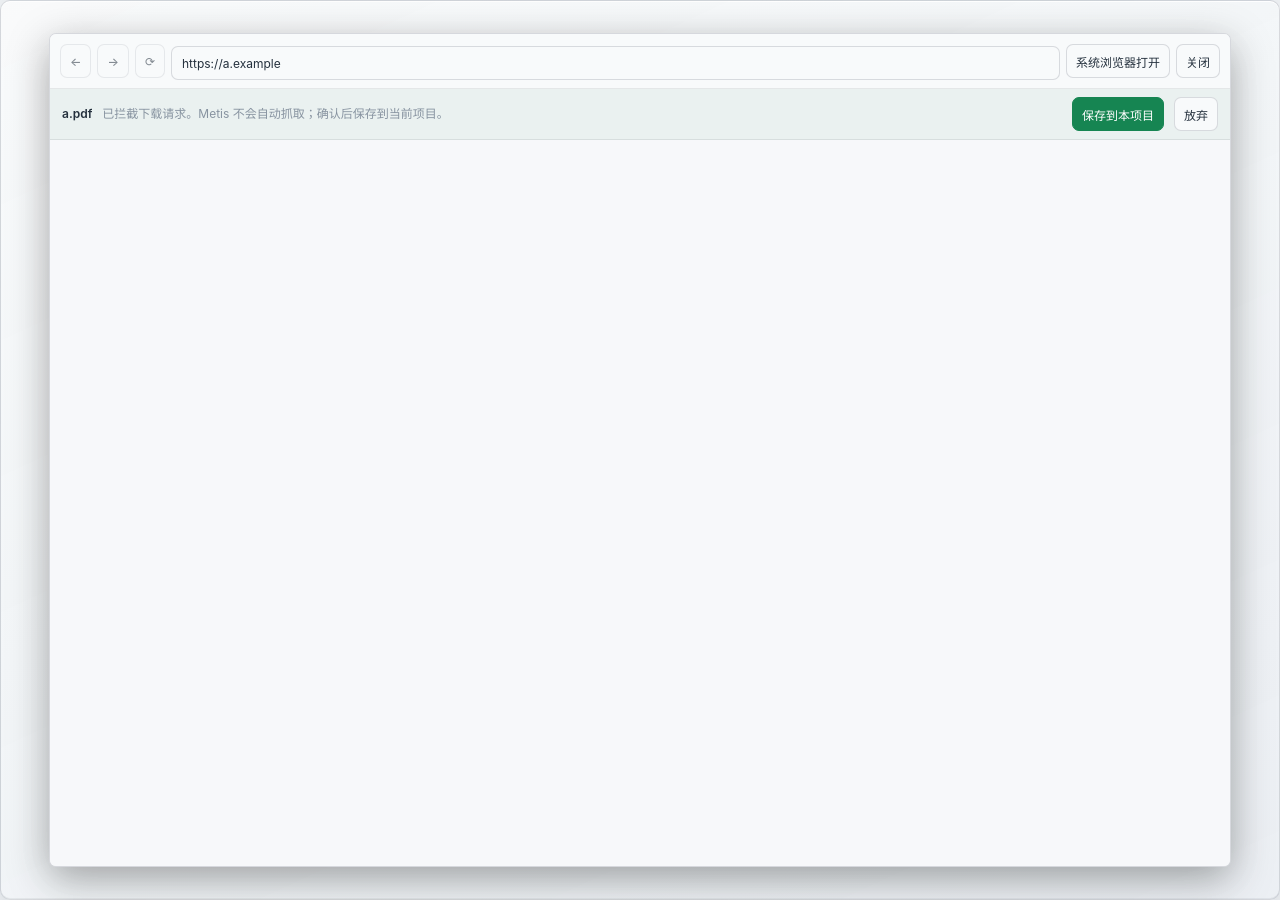
it: EmbeddedBrowserOverlay › 下载请求弹出确认条：保存到项目后消失并提示
The image size is (1280, 900).
expect the element with test id "browser-overlay-download" is shown: met, box [50, 89, 1230, 139]
Click the button with test id "browser-overlay-accept": point(1118, 114) [1072, 97, 1164, 131]
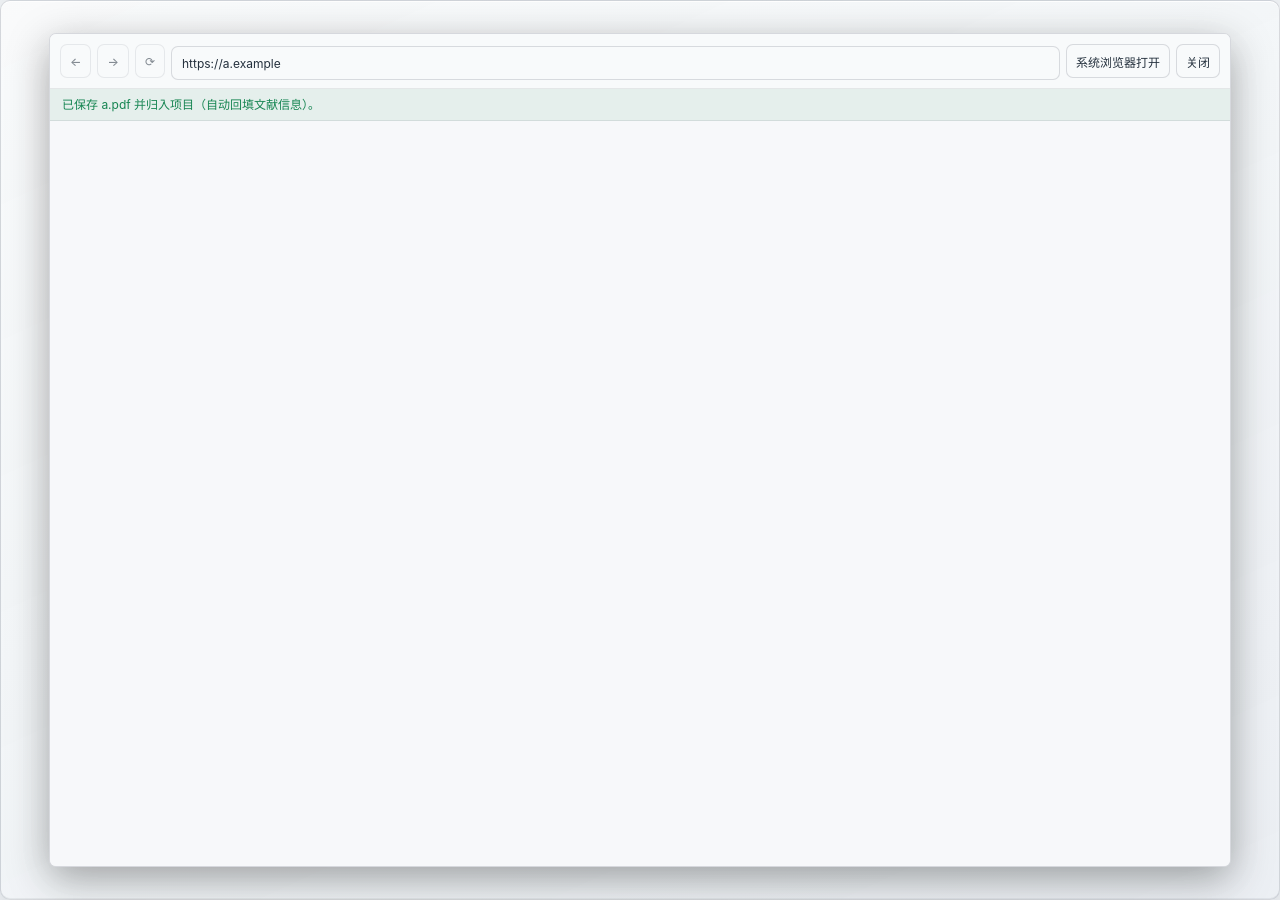
expect the element with test id "browser-overlay-download" is gone: met
expect the message with test id "browser-overlay-notice" shows "a.pdf": met, box [62, 97, 320, 112]
